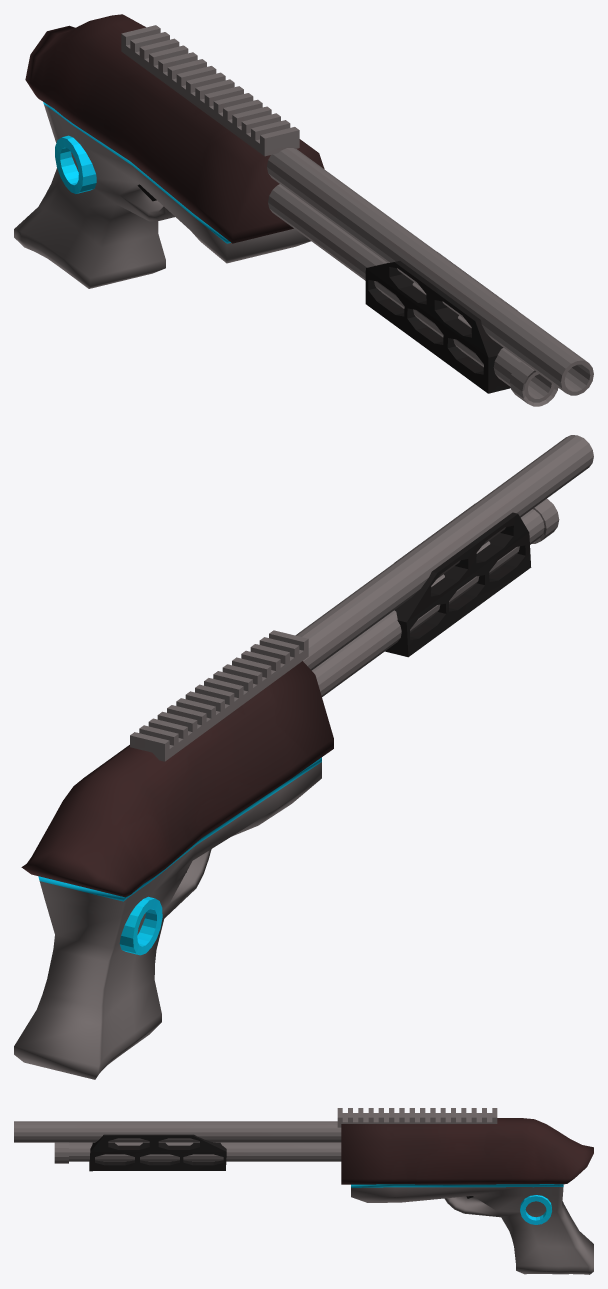
File: Shotgun.glb
The picture shows the model from 3 angles, top to bottom: view 1: azimuth 30°, elevation 25°; view 2: azimuth 150°, elevation 25°; view 3: azimuth 270°, elevation 25°; orthographic projection. The views are drawn at different scales.
Visible parts, largest first — view 1: Shotgun; view 2: Shotgun; view 3: Shotgun.
Part boxes in pixels (bbox=[...]): Shotgun: bbox=[14, 14, 593, 406]; Shotgun: bbox=[14, 435, 593, 1079]; Shotgun: bbox=[14, 1108, 593, 1274].
Bounding box in the file's own units: 0.0935 × 0.231 × 0.8038.
Materials: 1 (1 with a texture image).
